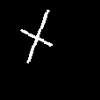single_crochet: (21, 10, 51, 62)
